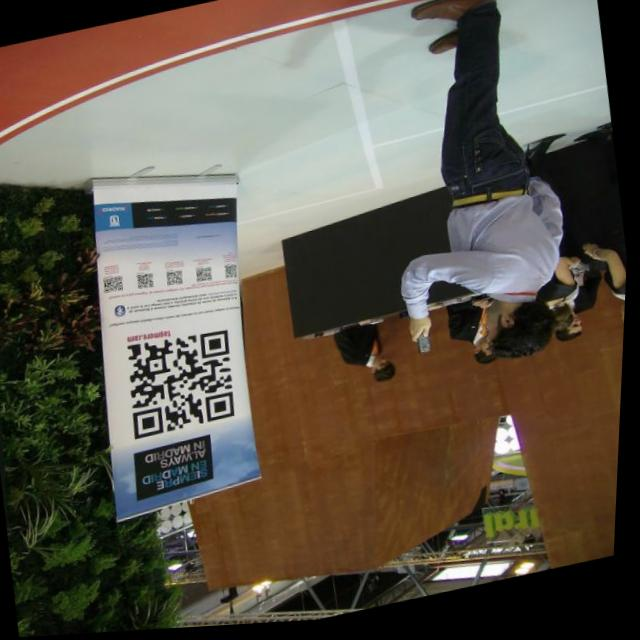qrcode: (125, 328, 245, 443), (106, 277, 127, 295), (139, 274, 156, 292), (198, 268, 216, 285), (169, 272, 187, 289), (227, 265, 241, 283)
